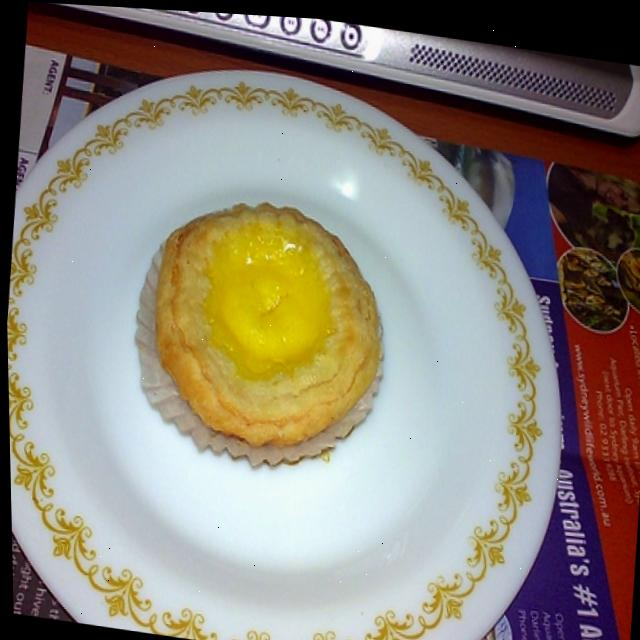炸货点心: (0, 19, 594, 640)
蛋糕甜品: (0, 19, 594, 640)
